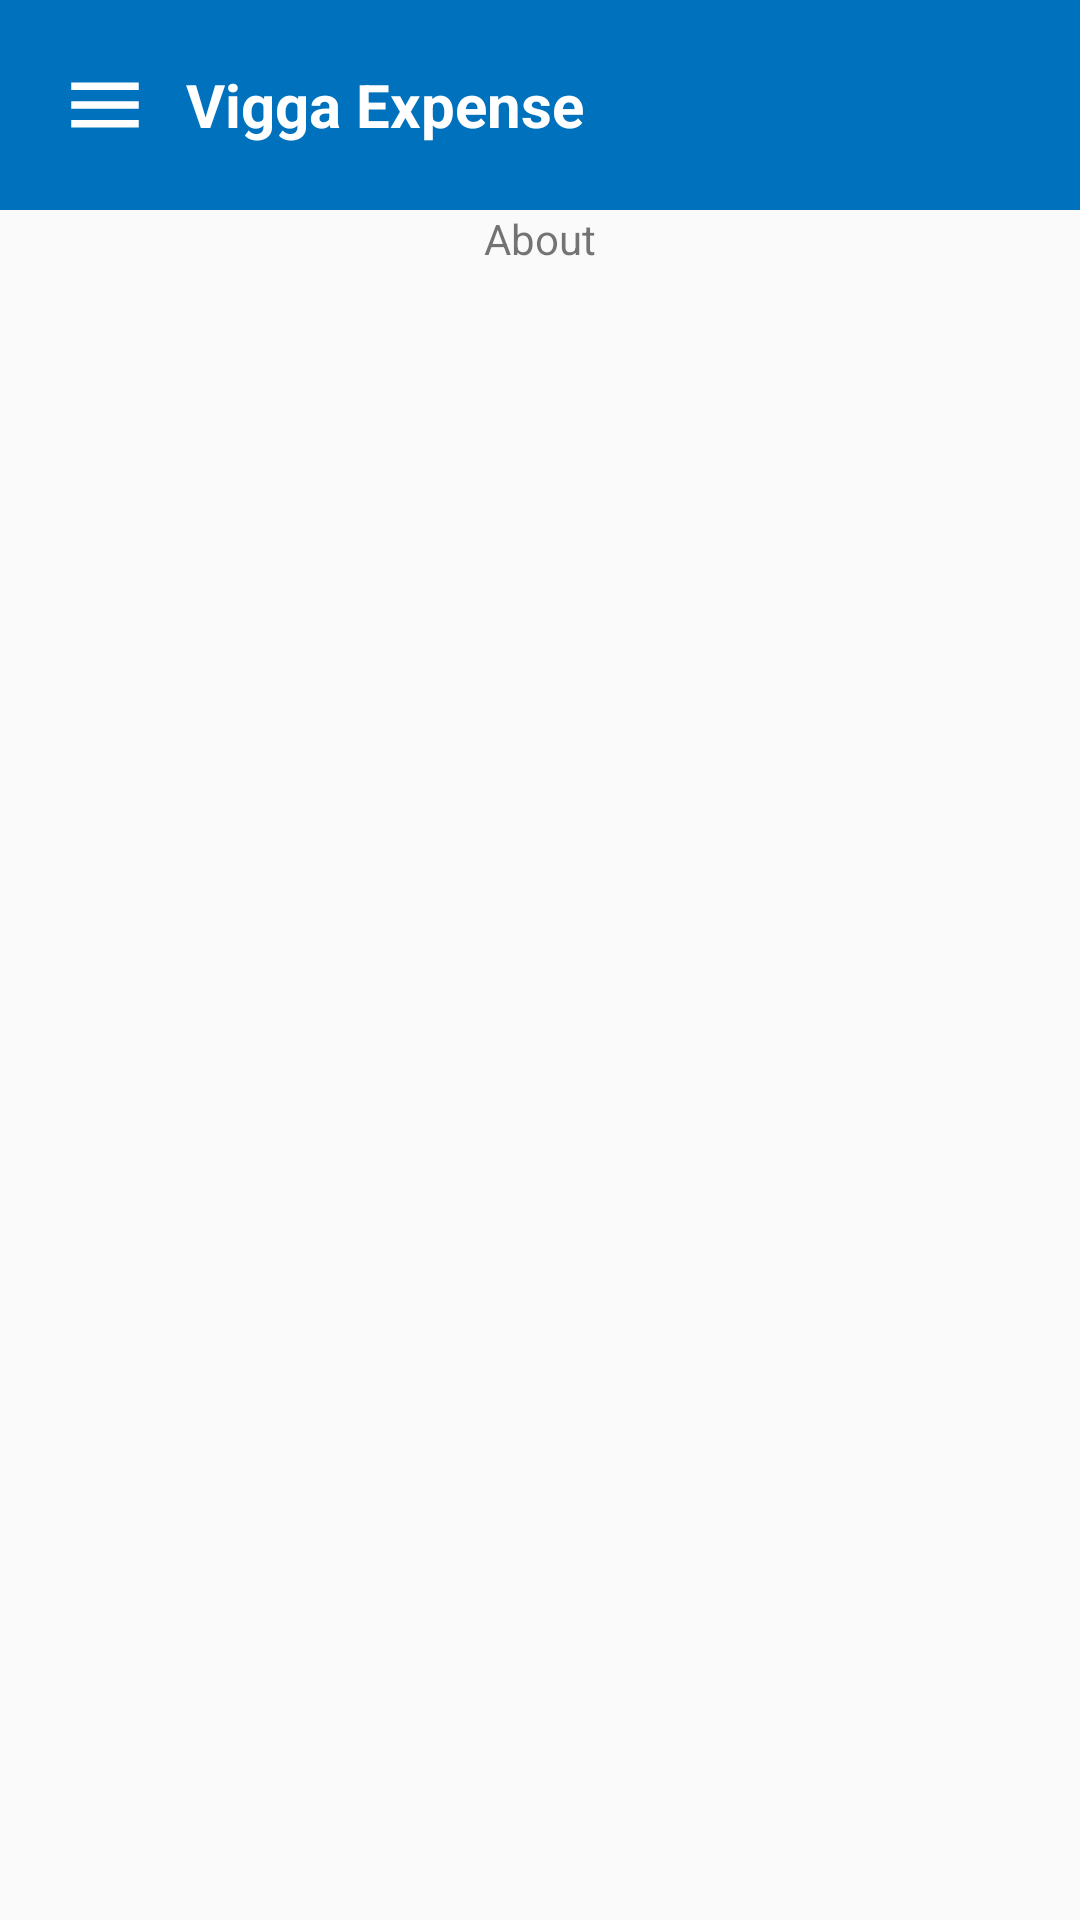

Where icons sit on this 1080 x 1920 app screen, as rect(x1, y1, x2, y2):
menu: rect(71, 82, 139, 128)
